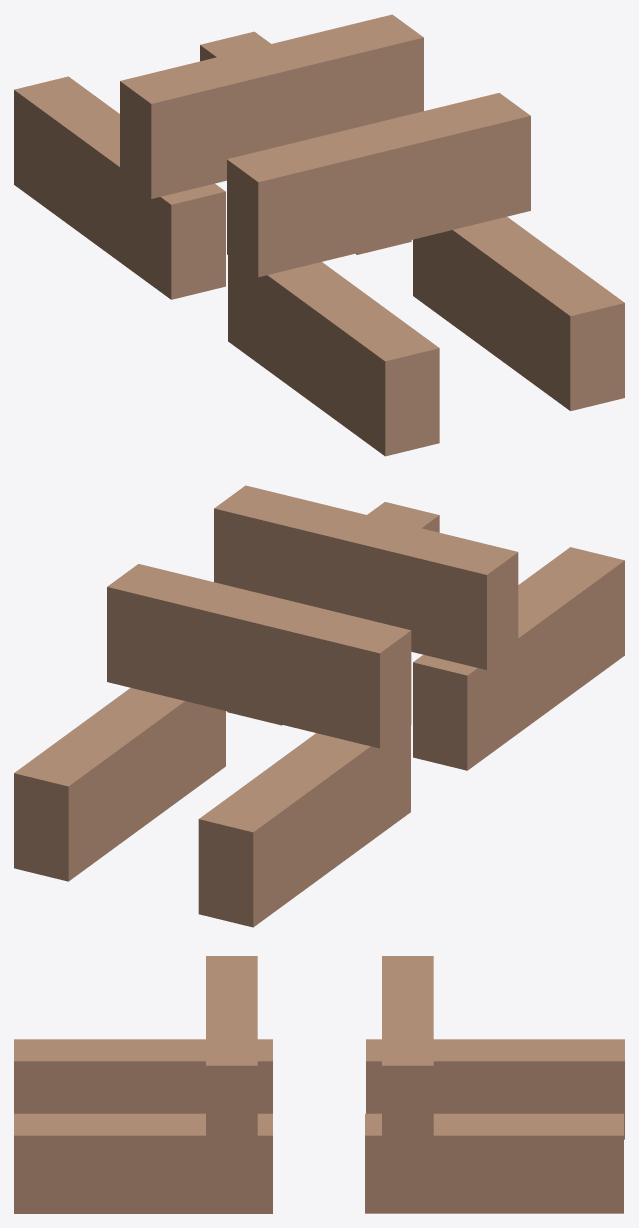
Rendered from three_tower_dummy.dae.
3 views of the same model, one above another, from view 1: azimuth 30°, elevation 25°; view 2: azimuth 150°, elevation 25°; view 3: azimuth 270°, elevation 25° (orthographic). The views are drawn at different scales.
Visible parts, largest first — view 1: base (×6); view 2: base (×6); view 3: base (×6).
Part boxes in pixels (bbox=[...]): base (×6): bbox=[14, 14, 624, 456]; base (×6): bbox=[14, 485, 624, 927]; base (×6): bbox=[14, 956, 624, 1213].
Bounding box in the file's own units: 0.1524 × 0.3596 × 0.1022.
